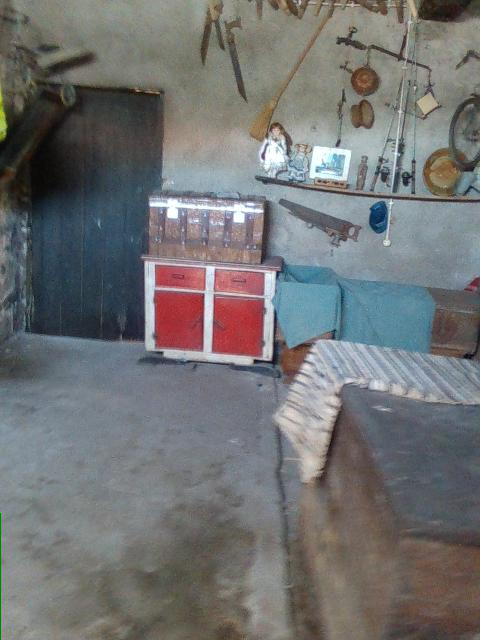door: (19, 83, 161, 340)
